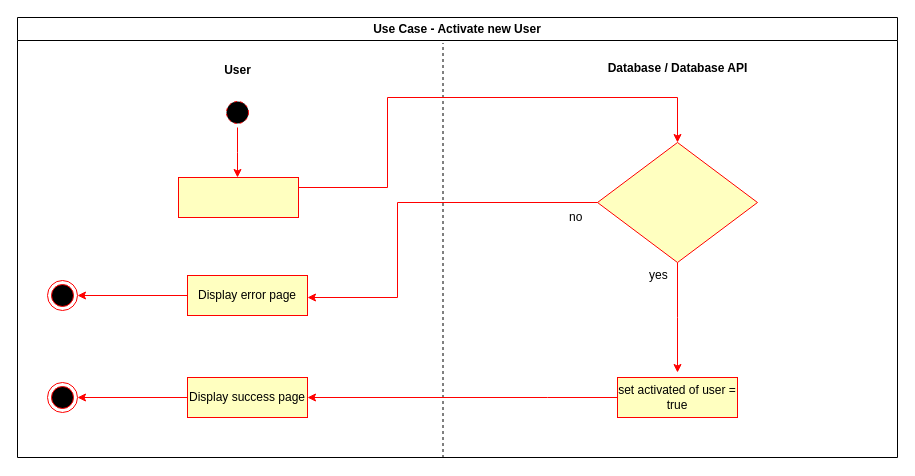
Image size: 915x476. Some labels were removed from this diagram. Here are the shapes that lost their labels. From the top down, the centre of each, then its label:
At [238,197]: "follows link in activation email".
At [677,202]: "Check if incative user with that token is in DB".
